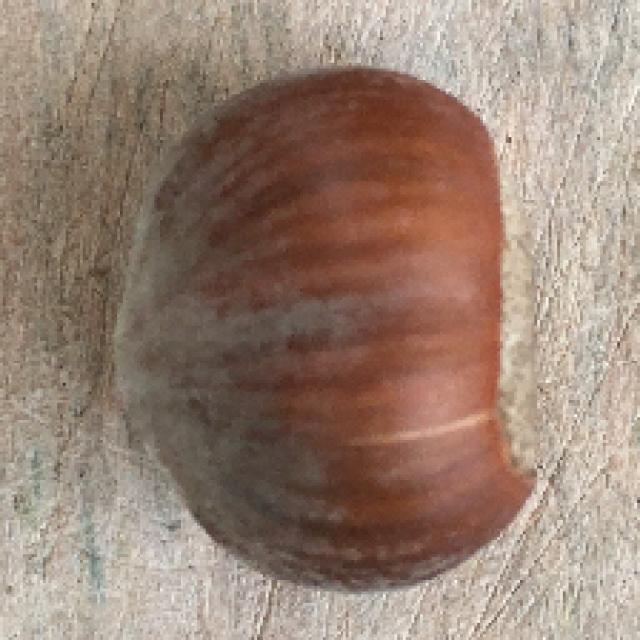qualityHazelnut: (114, 67, 562, 592)
